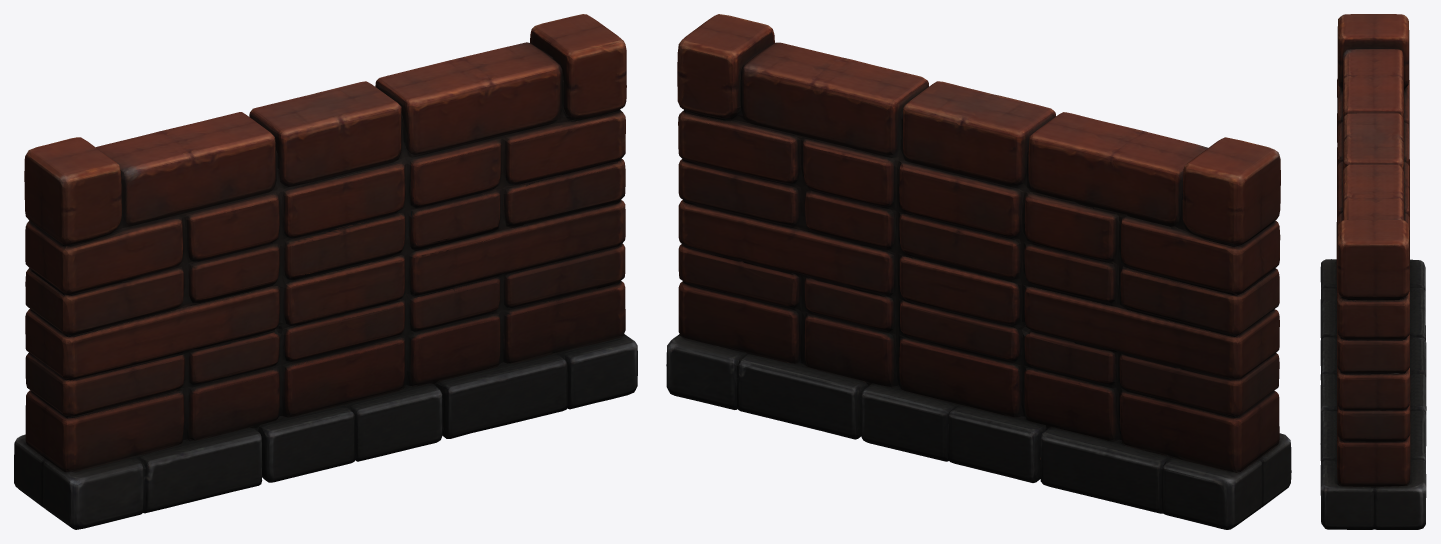
Rendered from BrickWall.glb.
The picture shows the model from 3 angles, left to right: view 1: azimuth 30°, elevation 25°; view 2: azimuth 150°, elevation 25°; view 3: azimuth 270°, elevation 25°; orthographic projection. The views are drawn at different scales.
Parts seen in each view (by area): view 1: world; view 2: world; view 3: world.
Part boxes in pixels (left/top/right/bottom): world: left=14, top=14, right=637, bottom=529; world: left=666, top=14, right=1291, bottom=529; world: left=1320, top=14, right=1426, bottom=529.
Bounding box in the file's own units: 1 × 0.5851 × 0.194.
Materials: 1 (1 with a texture image).
